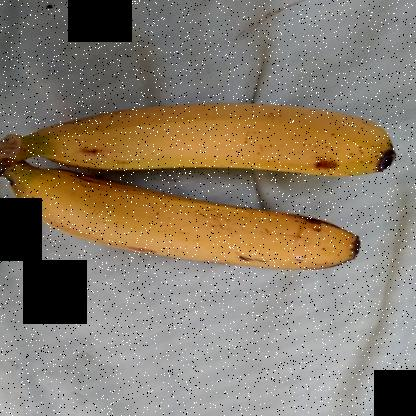ripe: (28, 171, 354, 276), (44, 99, 404, 184)
